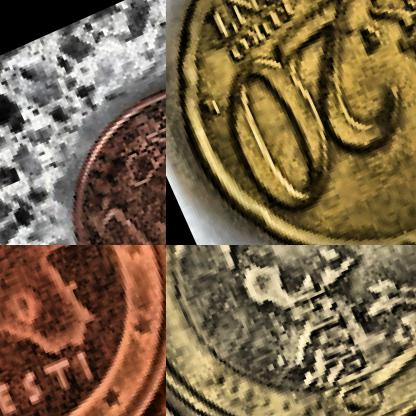coin: (166, 0, 415, 244), (166, 245, 415, 415), (0, 245, 165, 415), (26, 44, 165, 244)
